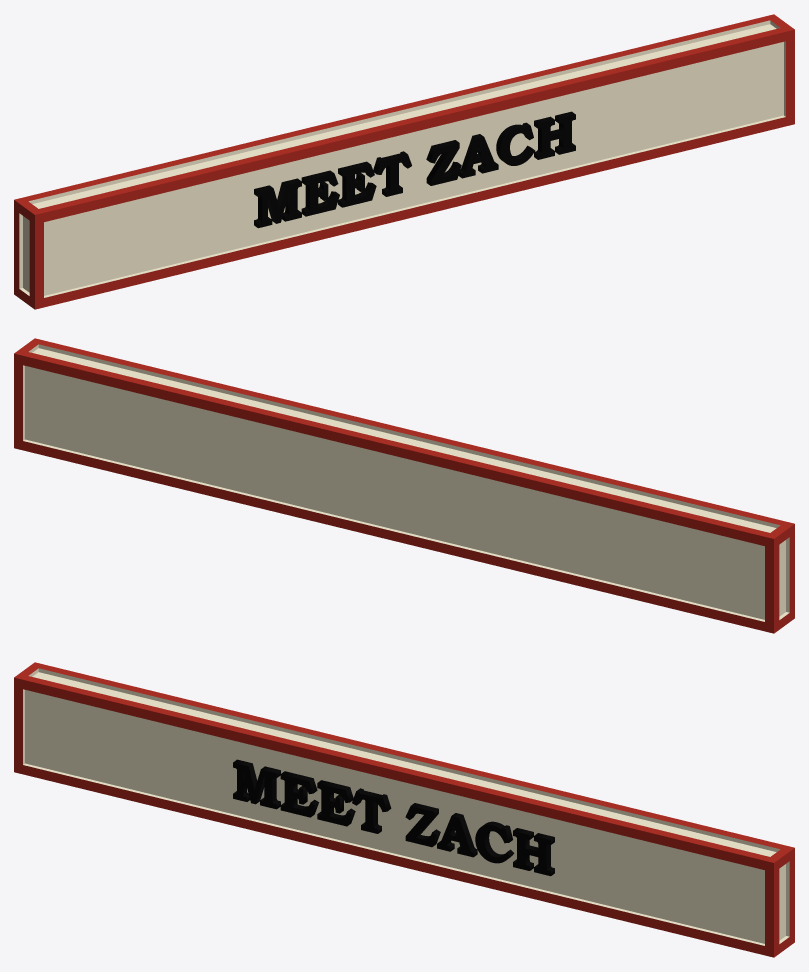
The model's file is meetZach.glb.
3 renders of one model, top to bottom at view 1: azimuth 30°, elevation 25°; view 2: azimuth 150°, elevation 25°; view 3: azimuth 330°, elevation 25°, orthographic.
Visible parts, largest first — view 1: Button, Text; view 2: Button; view 3: Button, Text.
Part boxes in pixels (x1,y1,x2,y2): Button: [14, 14, 794, 309]; Text: [254, 111, 575, 228]; Button: [14, 338, 794, 633]; Button: [14, 662, 794, 957]; Text: [233, 759, 554, 876].
Size of the model in its own units: 10.5 by 1.25 by 0.55.
